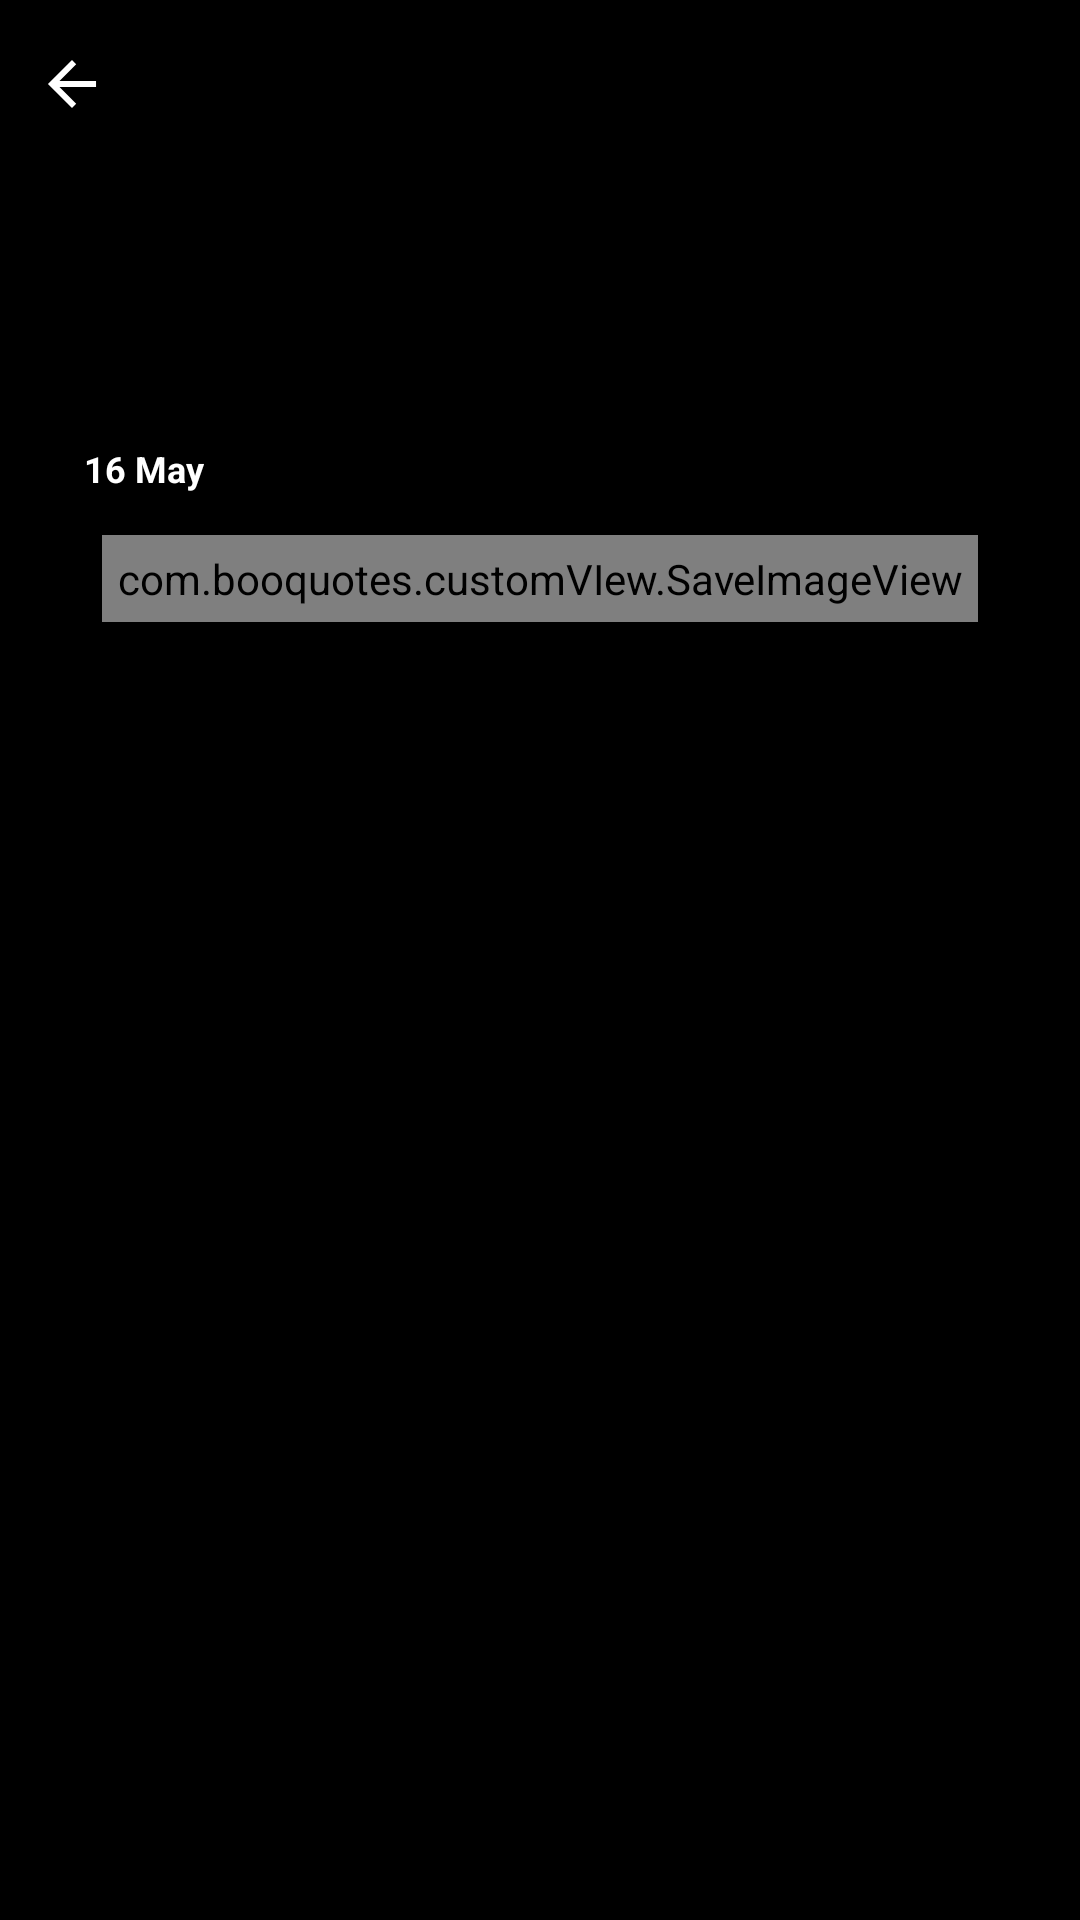

Point at icon controls on the screen. Image size 1080px x 1920px, points as (x=x, y=y).
arrow back: (x=72, y=84)
